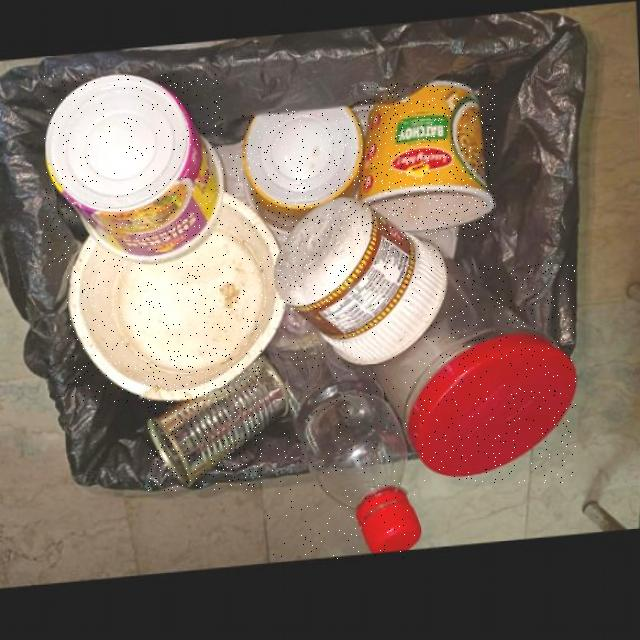metal: (147, 352, 296, 491)
plastic: (68, 154, 284, 403), (365, 263, 576, 483), (262, 310, 420, 559), (43, 74, 223, 266), (275, 203, 444, 369), (355, 84, 495, 237), (242, 110, 363, 232)
